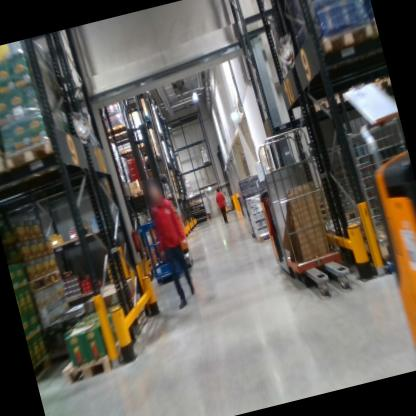forklift: (113, 108, 205, 287)
pallet: (1, 131, 81, 200), (54, 335, 141, 390), (303, 16, 382, 73), (29, 342, 59, 389), (307, 89, 349, 122), (21, 266, 65, 296), (0, 147, 14, 195), (364, 75, 393, 98), (128, 187, 147, 201)
pallet_truck: (244, 148, 361, 320)
